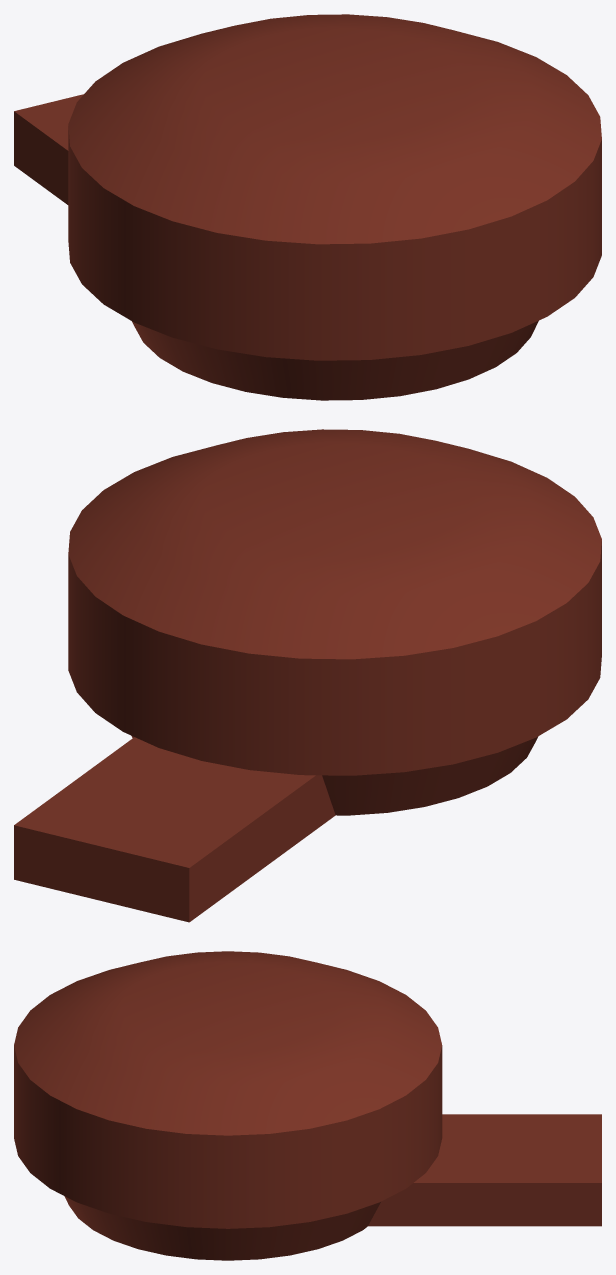
The model's file is BossArena0.fbx.
3 renders of one model, top to bottom at view 1: azimuth 30°, elevation 25°; view 2: azimuth 150°, elevation 25°; view 3: azimuth 270°, elevation 25°, orthographic. The views are drawn at different scales.
Visible parts, largest first — view 1: Circle.178; view 2: Circle.178; view 3: Circle.178.
Part boxes in pixels (x1=…): Circle.178: x1=14, y1=14, x2=601, y2=400; Circle.178: x1=14, y1=429, x2=601, y2=922; Circle.178: x1=14, y1=951, x2=601, y2=1260.
Bounding box in the file's own units: 52800 × 25100 × 72499.
